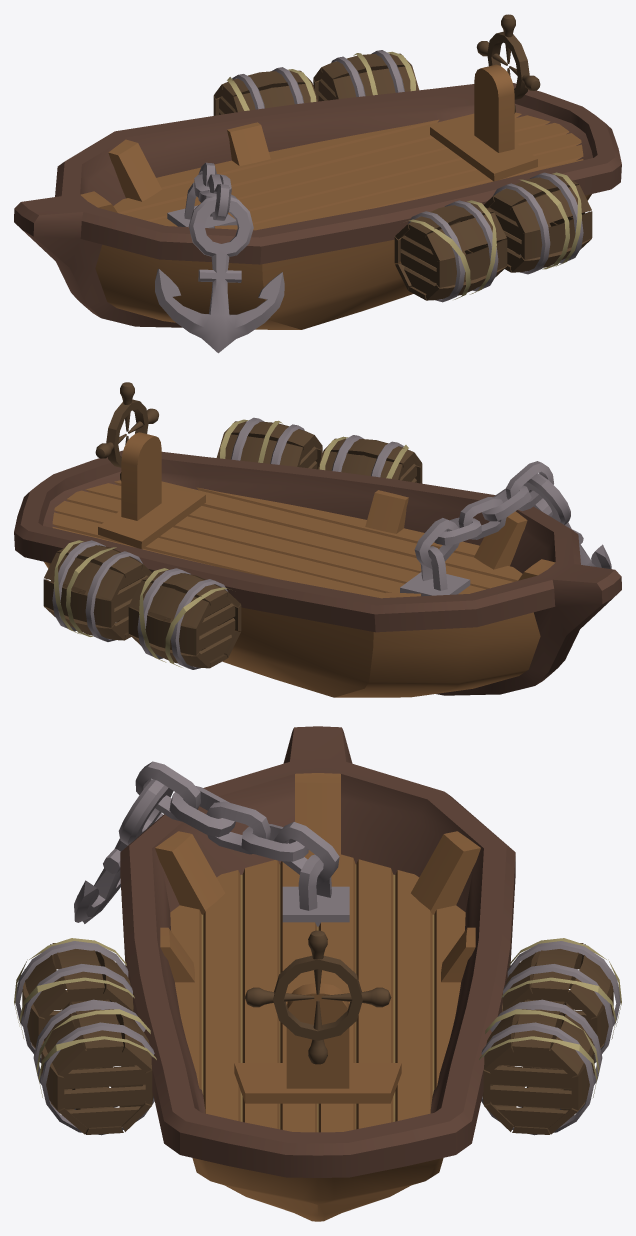
Rendered from Small Ship.glb.
The picture shows the model from 3 angles, top to bottom: view 1: azimuth 30°, elevation 25°; view 2: azimuth 150°, elevation 25°; view 3: azimuth 270°, elevation 25°; orthographic projection. The views are drawn at different scales.
Parts seen in each view (by area): view 1: Ship_Small; view 2: Ship_Small; view 3: Ship_Small.
Part boxes in pixels (x1=…): Ship_Small: x1=14, y1=14, x2=621, y2=353; Ship_Small: x1=14, y1=382, x2=621, y2=697; Ship_Small: x1=14, y1=726, x2=621, y2=1221.
Bounding box in the file's own units: 5.15 × 1.99 × 3.6.
1 material, 1 textured.
